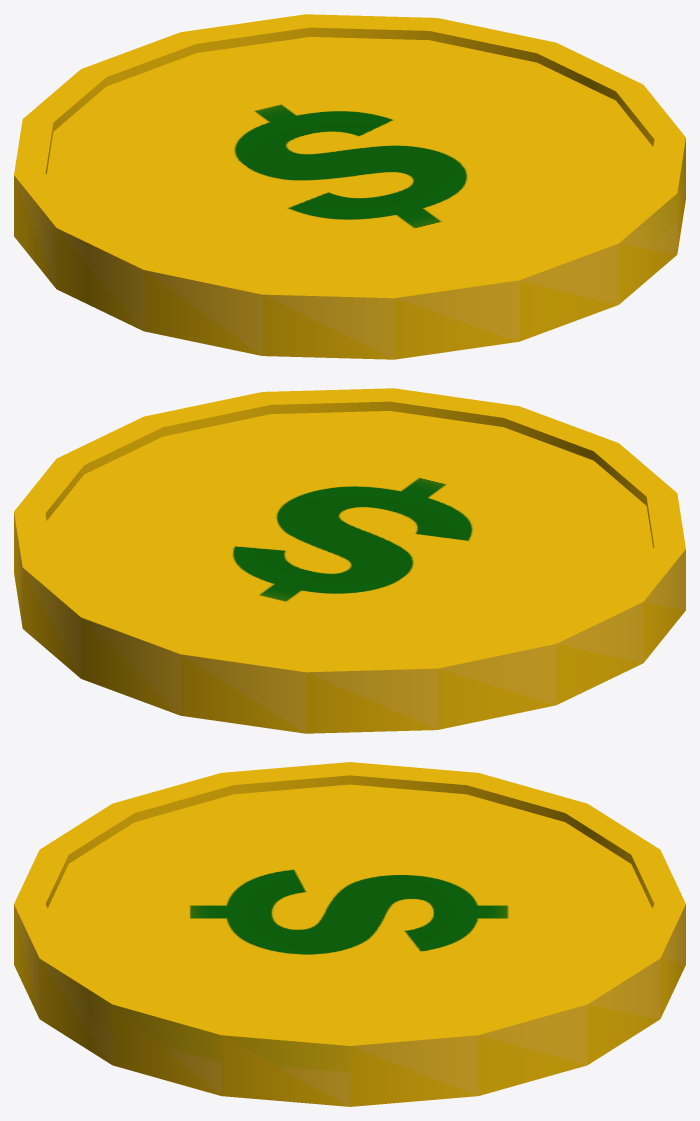
File: gold.fbx
The picture shows the model from 3 angles, top to bottom: view 1: azimuth 30°, elevation 25°; view 2: azimuth 150°, elevation 25°; view 3: azimuth 270°, elevation 25°; orthographic projection.
Parts seen in each view (by area): view 1: #coin; view 2: #coin; view 3: #coin.
Boxes of the visible parts, bbox=[...] form: #coin: bbox=[14, 14, 685, 359]; #coin: bbox=[14, 388, 685, 733]; #coin: bbox=[14, 762, 685, 1106].
Bounding box in the file's own units: 200 × 20 × 200.
1 material, 1 textured.
